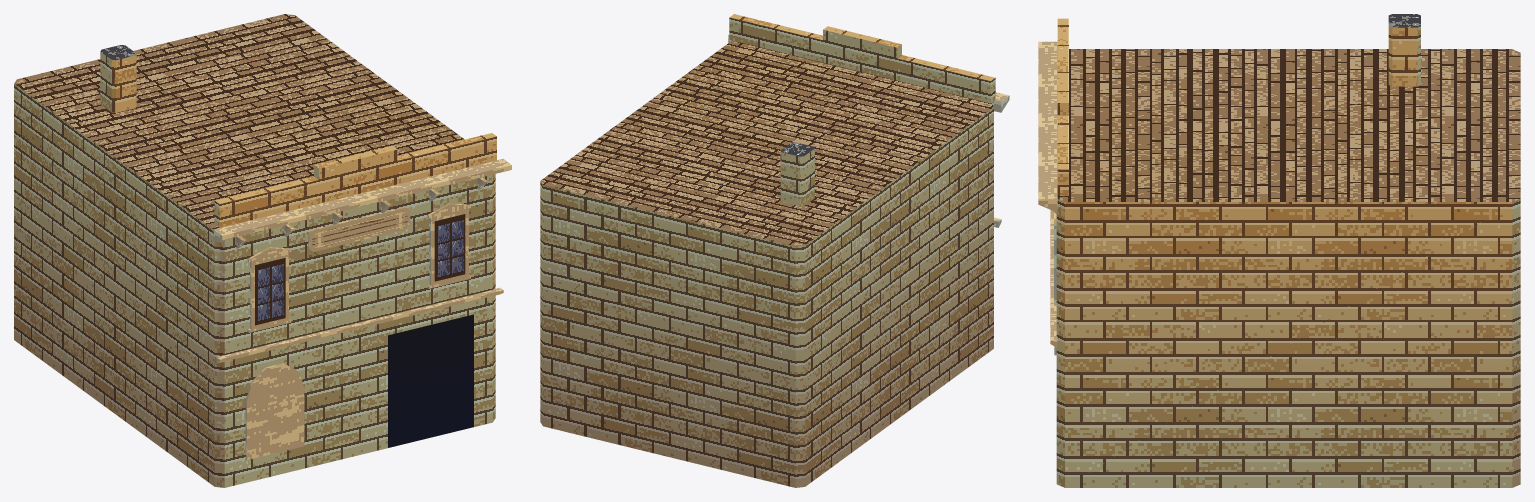
Rendered from wtown.bank__entry.glb.
3 renders of one model, left to right at view 1: azimuth 30°, elevation 25°; view 2: azimuth 150°, elevation 25°; view 3: azimuth 270°, elevation 25°, orthographic. The views are drawn at different scales.
Visible parts, largest first — view 1: kit_body, kit_trim, kit_card_panes, kit_windows, kit_chimney; view 2: kit_body, kit_trim, kit_chimney; view 3: kit_body, kit_trim, kit_chimney.
Boxes of the visible parts, bbox=[...] form: kit_body: bbox=[14, 14, 495, 487]; kit_trim: bbox=[213, 133, 511, 363]; kit_card_panes: bbox=[255, 210, 473, 447]; kit_windows: bbox=[245, 203, 470, 459]; kit_chimney: bbox=[100, 45, 136, 112]; kit_body: bbox=[540, 41, 993, 487]; kit_trim: bbox=[728, 14, 1009, 227]; kit_chimney: bbox=[780, 142, 814, 206]; kit_body: bbox=[1056, 49, 1520, 487]; kit_trim: bbox=[1038, 18, 1068, 347]; kit_chimney: bbox=[1388, 14, 1420, 86].
Bounding box in the file's own units: 8.04 × 8.2 × 10.4.
Materials: 7 (7 with a texture image).
